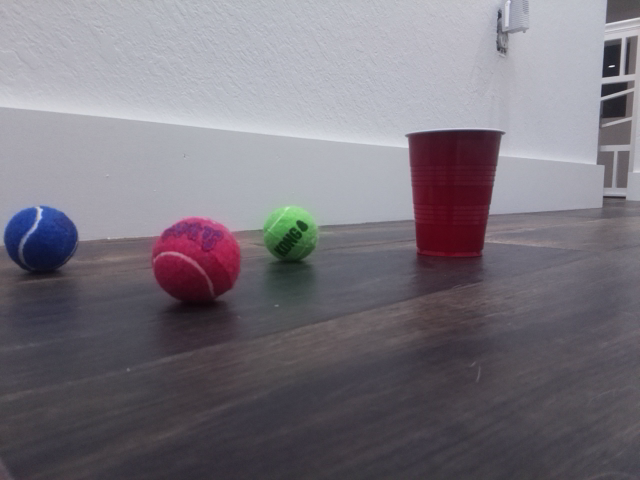blue-ball: (3, 204, 79, 274)
green-ball: (261, 204, 319, 263)
red-ball: (150, 215, 242, 306)
